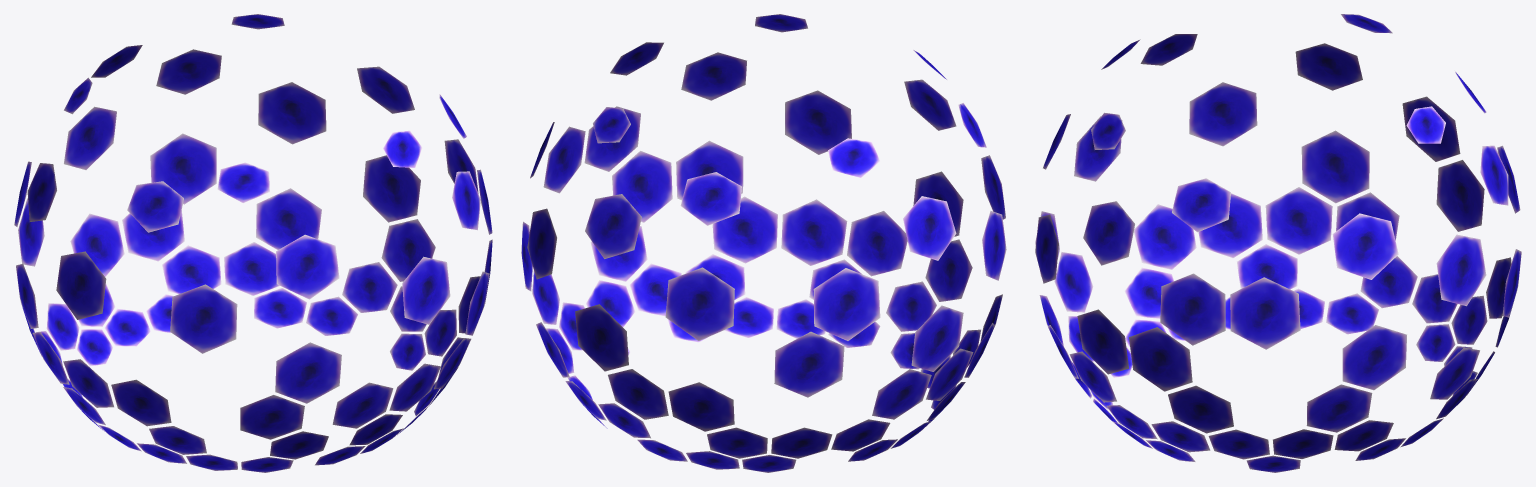
Rendered from FX_lfl_buff_dun.FBX.
3 renders of one model, left to right at view 1: azimuth 30°, elevation 25°; view 2: azimuth 150°, elevation 25°; view 3: azimuth 270°, elevation 25°, orthographic. The views are drawn at different scales.
Visible parts, largest first — view 1: 对象002; view 2: 对象002; view 3: 对象002.
Boxes of the visible parts, x1,y1,x2,y2 form: 对象002: [14, 14, 492, 472]; 对象002: [521, 14, 1006, 472]; 对象002: [1035, 14, 1521, 472].
Size of the model in its own units: 134 by 101 by 134.
